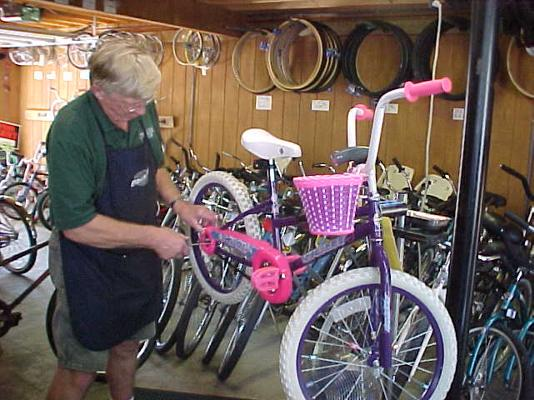person: (40, 35, 225, 400)
